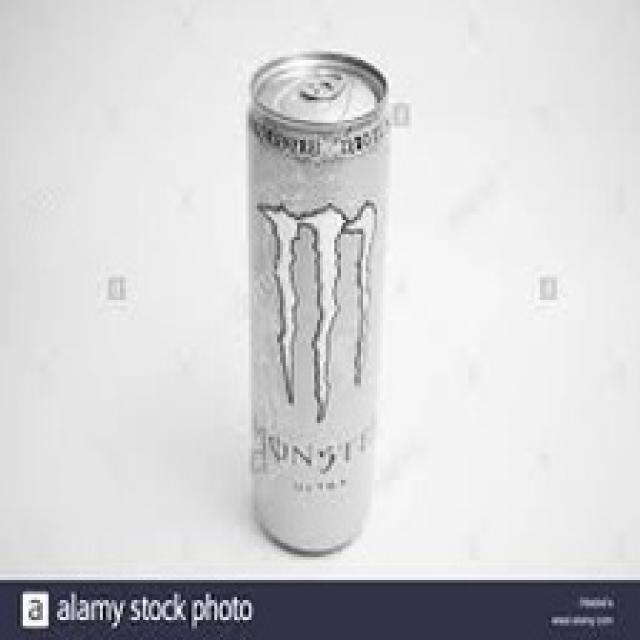recyclable: (245, 50, 390, 558)
